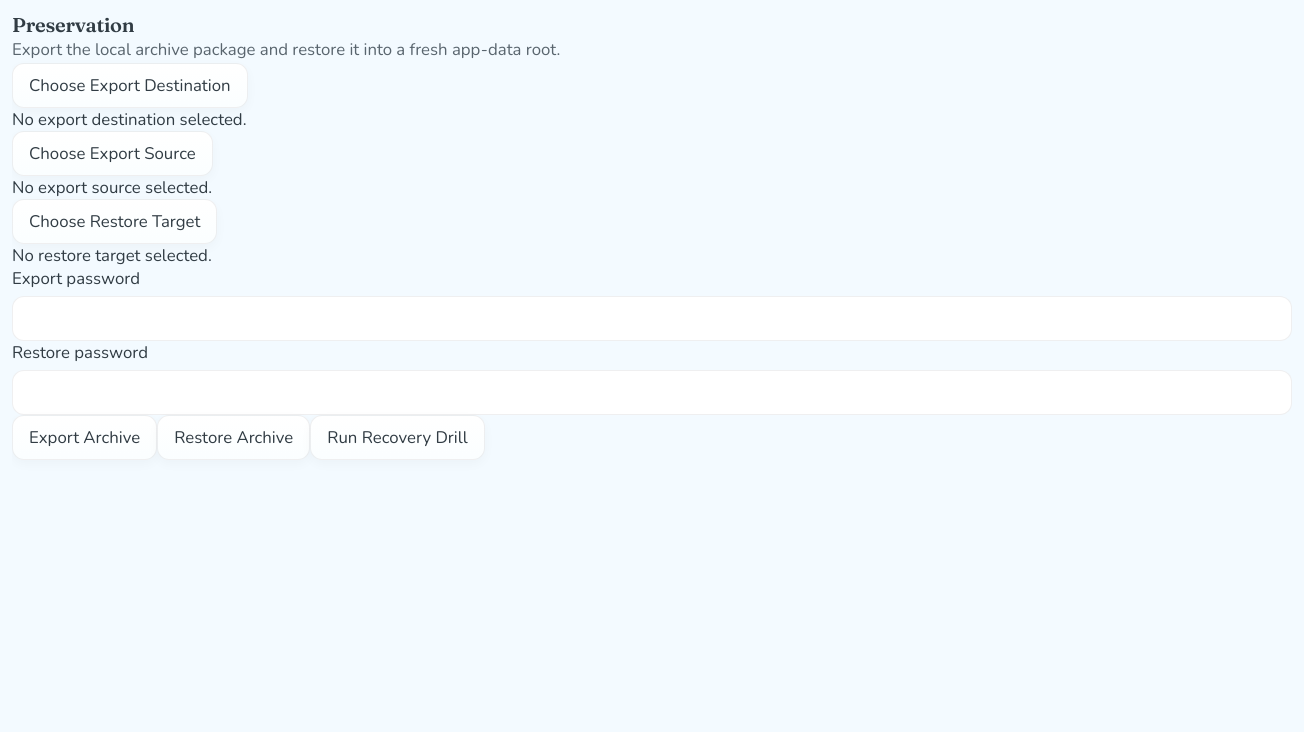
Test: PreservationPage › summarizes restore target not empty errors for operators
Click the button "Restore Archive".
click(234, 438)  # box top-left (157, 415), bottom-right (310, 460)
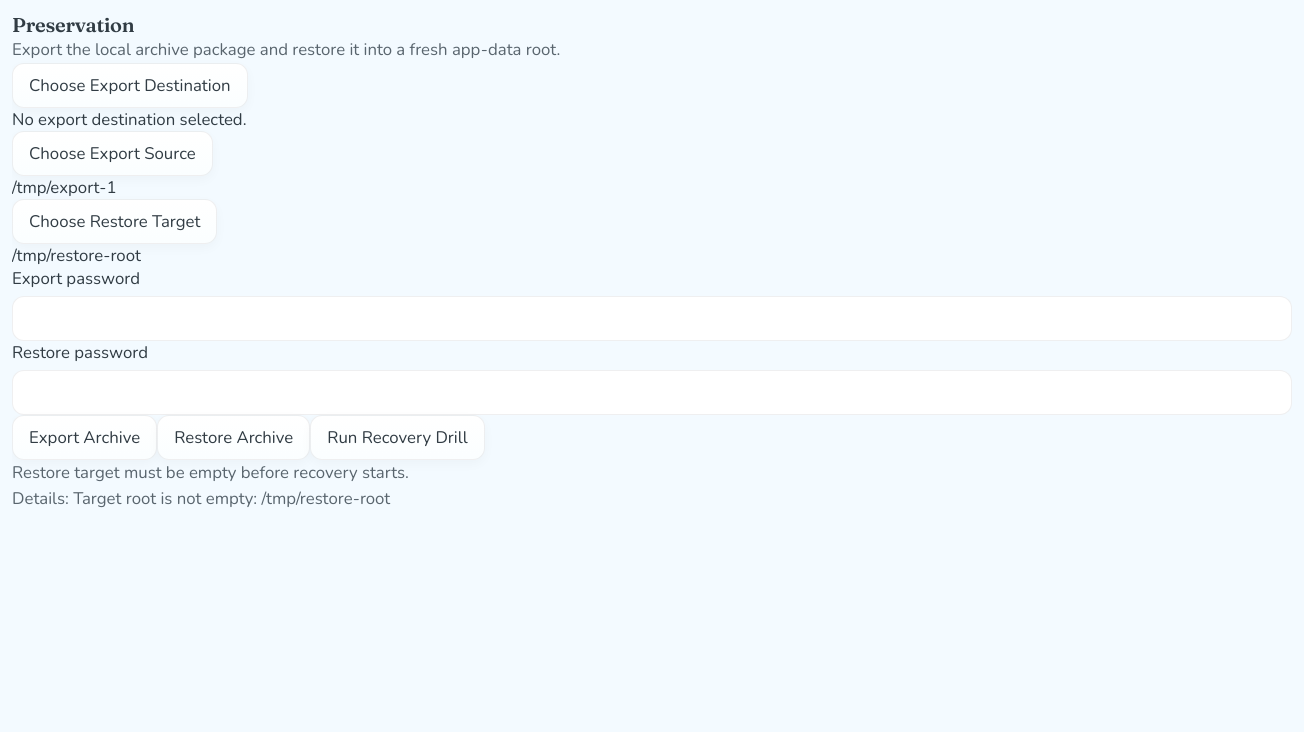
Result: the message shows "Restore target must be empty before recovery starts." at top-left (12, 461), bottom-right (409, 484)
Result: the message shows "Target root is not empty: /tmp/restore-root" at top-left (12, 487), bottom-right (390, 510)
